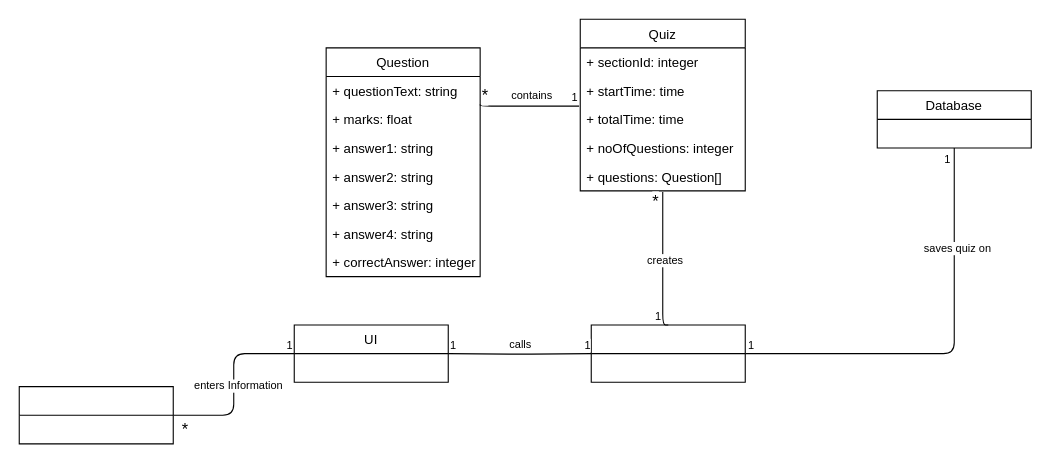
Image size: 1051x463. Some labels were removed from this diagram. The shapes that lost their labels are listed below. From the top down, each one's centre as x and y in pixels, then its label:
At [667,353]: "API".
At [95,415]: "Teacher".
